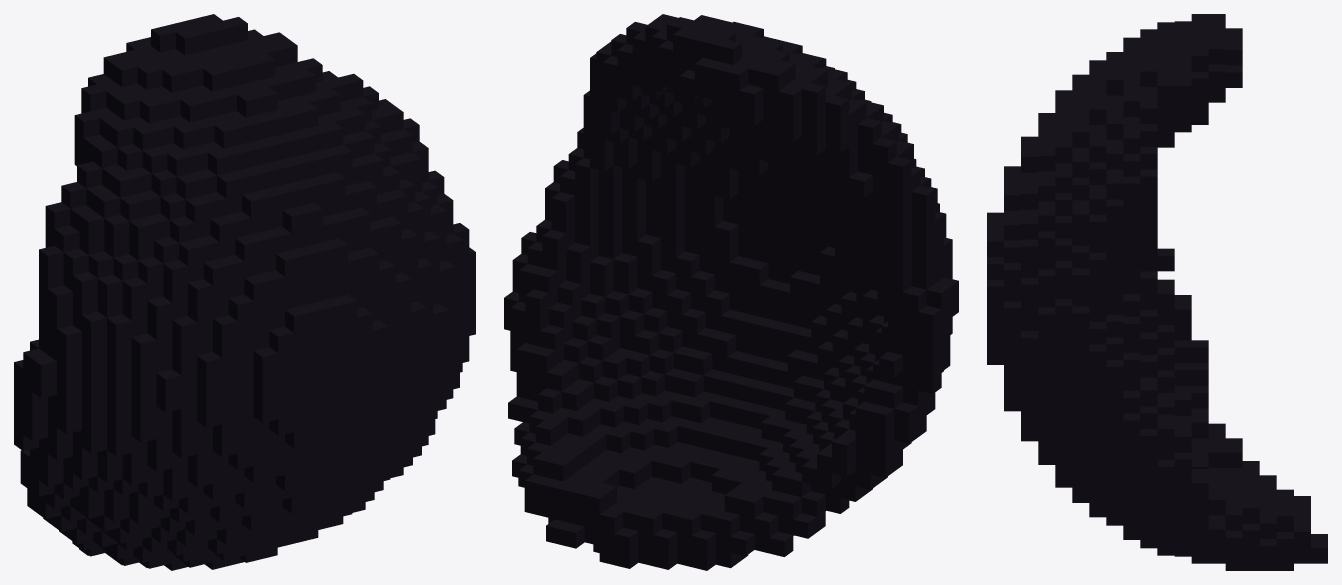
The model's file is BombDefaultShards-3.obj.
3 renders of one model, left to right at view 1: azimuth 30°, elevation 25°; view 2: azimuth 150°, elevation 25°; view 3: azimuth 270°, elevation 25°, orthographic. The views are drawn at different scales.
Size of the model in its own units: 2.8 by 3.2 by 2.
Materials: 1 (1 with a texture image).
